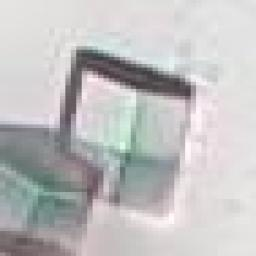crystals: (60, 44, 196, 223)
